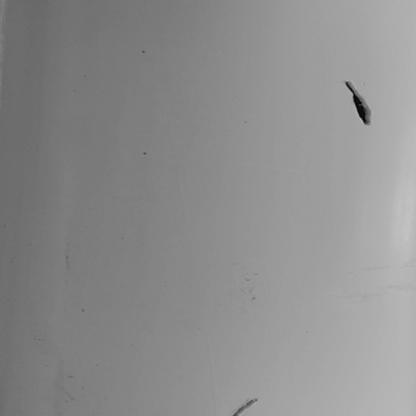fengxi: (232, 398, 255, 416)
kongdong: (343, 79, 375, 127)
